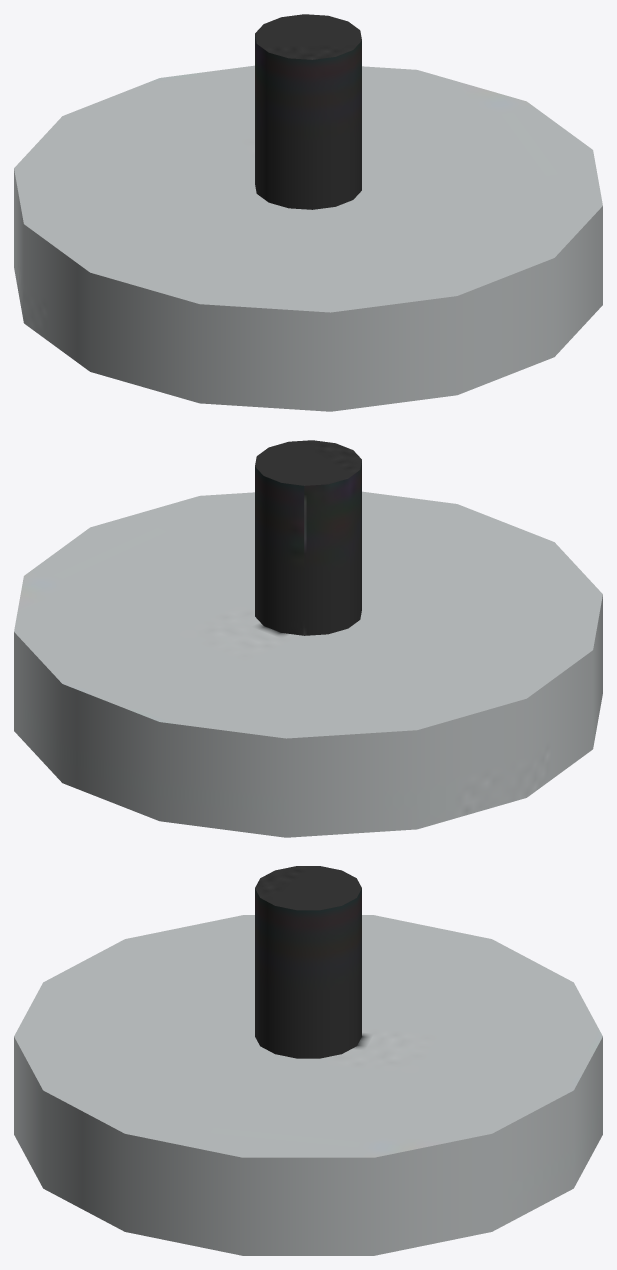
Rendered from tool_lever_pipe_expander_nozzle_05.glb.
3 views of the same model, one above another, from view 1: azimuth 30°, elevation 25°; view 2: azimuth 150°, elevation 25°; view 3: azimuth 270°, elevation 25° (orthographic).
Parts seen in each view (by area): view 1: tool_lever_pipe_expander_nozzle_05; view 2: tool_lever_pipe_expander_nozzle_05; view 3: tool_lever_pipe_expander_nozzle_05.
Part boxes in pixels (x1,y1,x2,y2): tool_lever_pipe_expander_nozzle_05: [14, 14, 602, 411]; tool_lever_pipe_expander_nozzle_05: [14, 440, 602, 837]; tool_lever_pipe_expander_nozzle_05: [14, 866, 602, 1255].
Bounding box in the file's own units: 0.0698 × 0.033 × 0.0716.
1 material, 1 textured.
